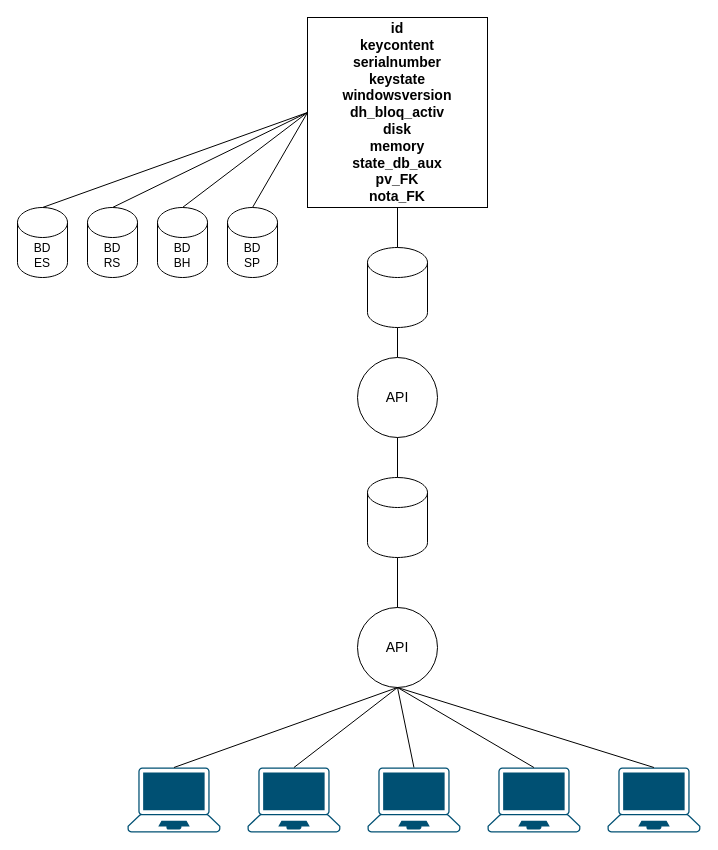
The diagram is 718 pixels wide and 850 high, and some of its shapes have lost their labels. The box of each missing label's shape, as (x1, y1, x2, y2) in pixels:
BD DF: (366, 246, 428, 328)
TB AUXILIAR: (366, 476, 428, 558)
